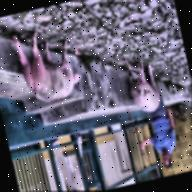boar: (11, 21, 85, 108), (123, 56, 162, 117)
